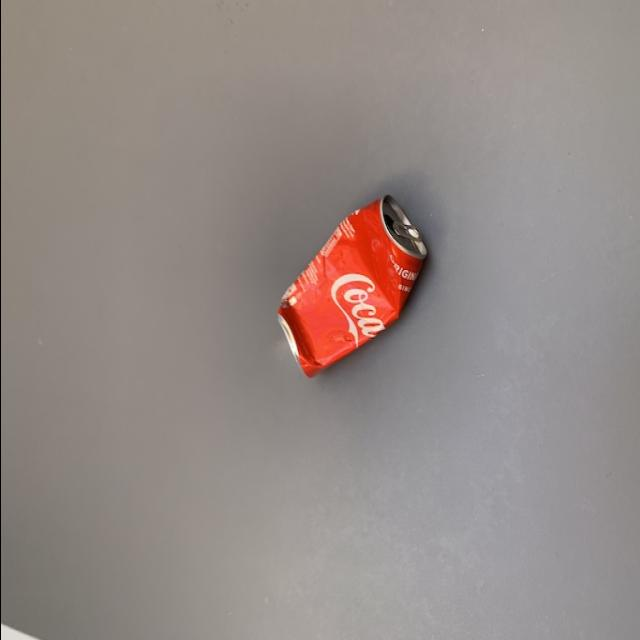litter: (274, 188, 432, 384)
